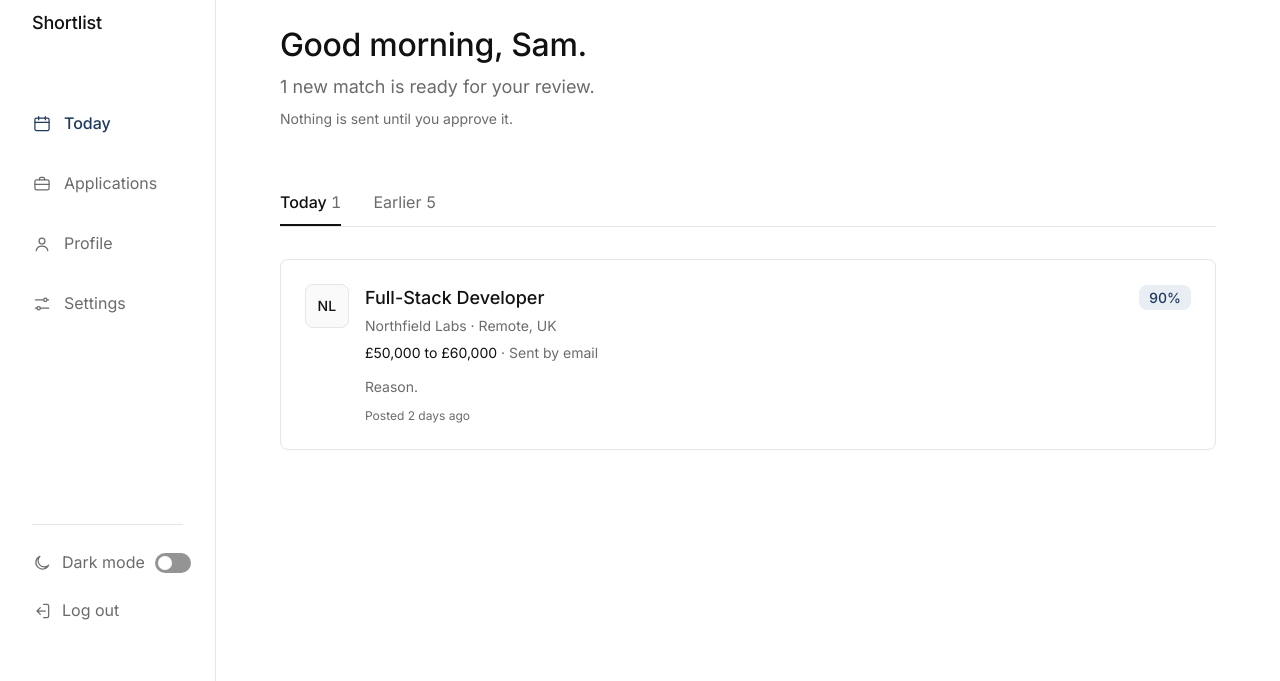
Test case: Earlier tab › groups matches by day with a summary, statuses and links
The width and height of the screenshot is (1280, 681).
Click the tab "Earlier 5".
click(405, 202)  # box [373,178,436,226]
(page scrolled)
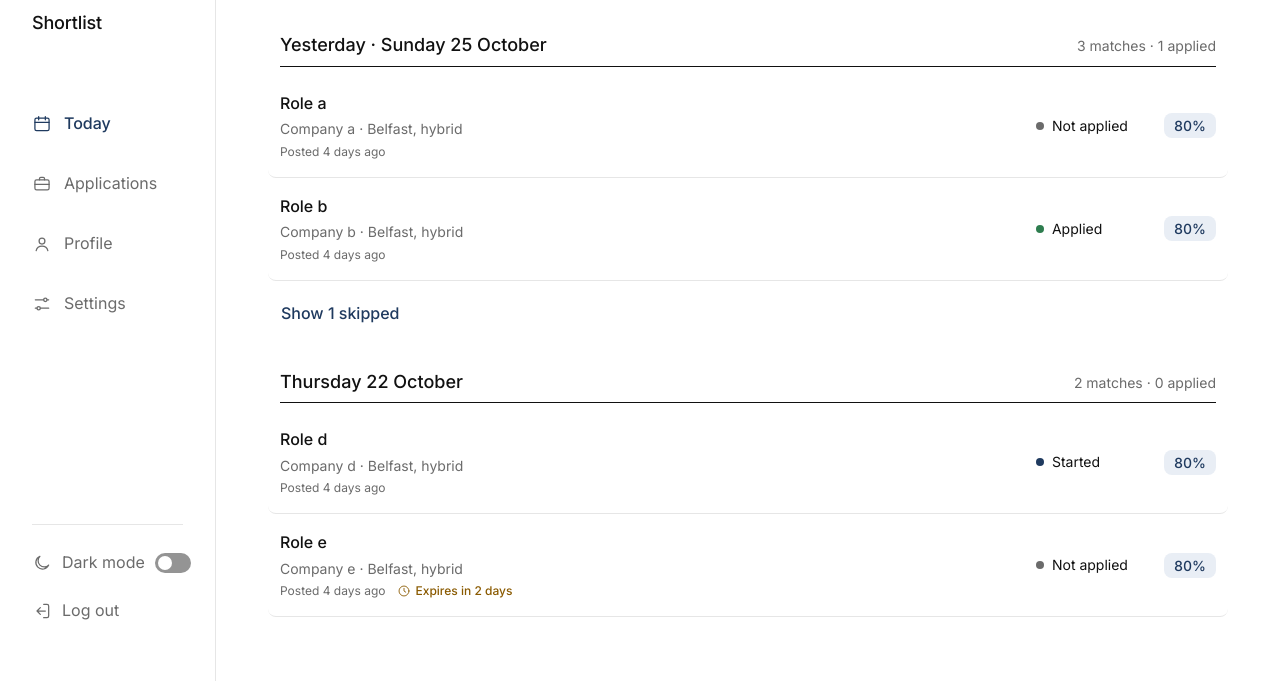
Check: the text "3 matches · 1 applied" is shown, box [1077,35,1216,58]
Check: the text "Applied" is shown, box [1036,220,1102,236]
Check: the text "Started" is shown, box [1036,453,1100,470]
